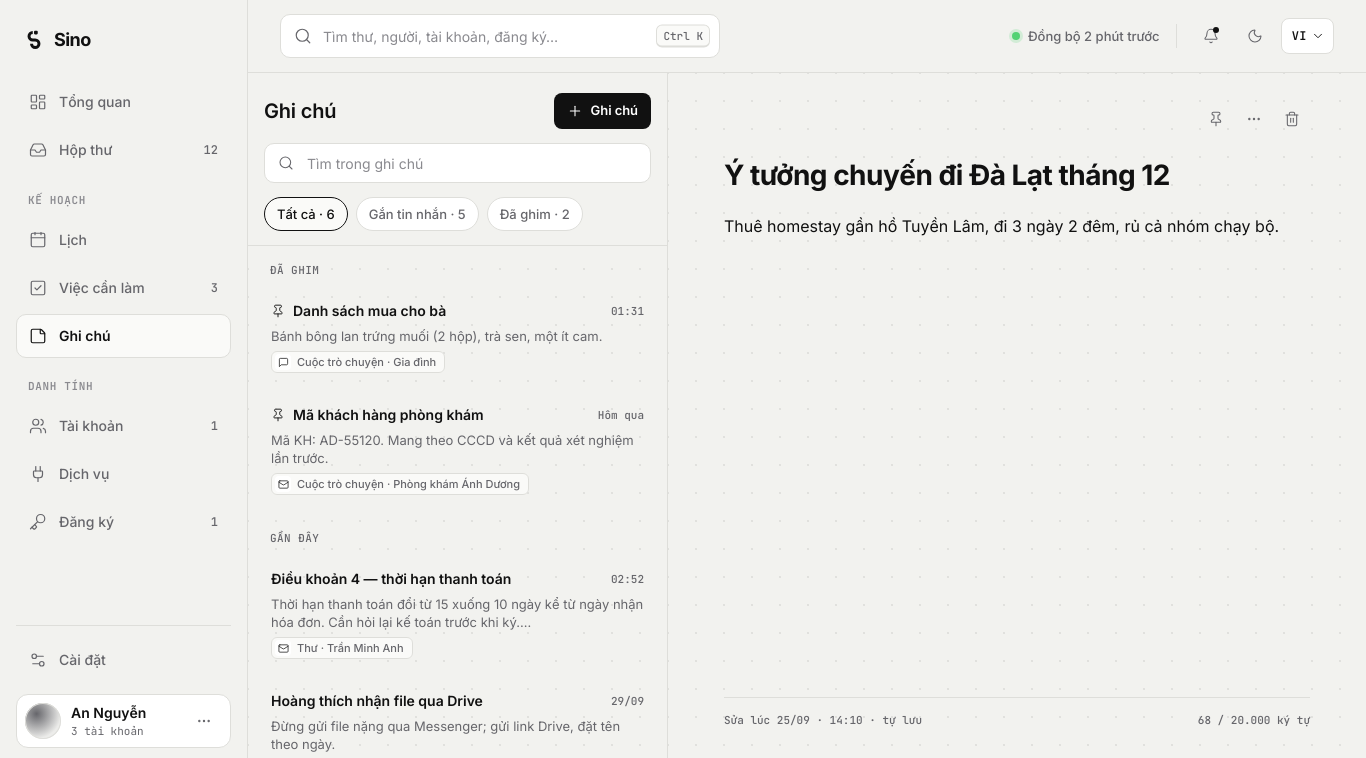
Scenario: Ghi chú on desktop (NT-02, fe-ui-notes) › pins and unpins, moving the card between the groups
Click the button named "Ghim" at point(1216, 119), box 1198,101 -> 1234,137
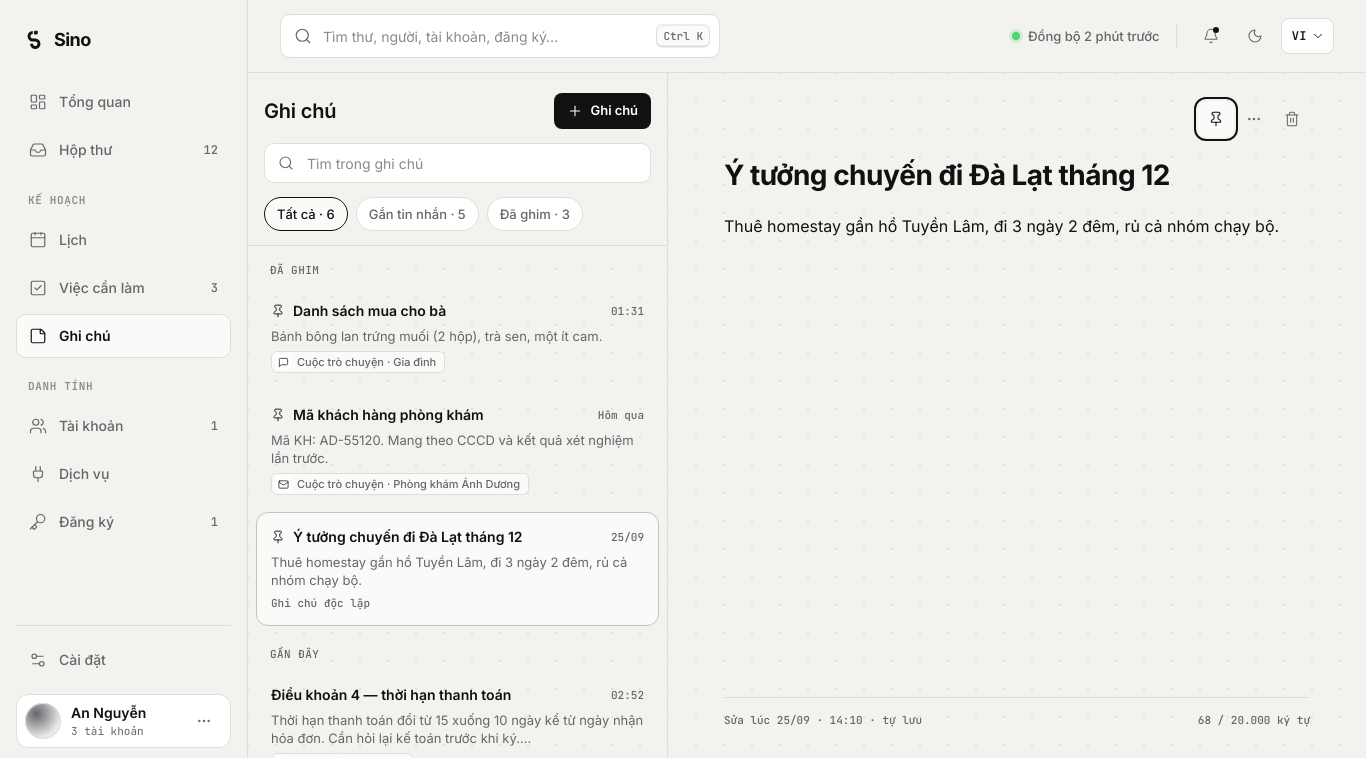
expect the button "Đã ghim · 3" is shown: met, box 487,197 -> 583,231
expect the text "Ý tưởng chuyến đi Đà Lạt tháng 12" is shown: met, box 293,527 -> 523,547
Click the button named "Ghim" at point(1216, 119), box 1198,101 -> 1234,137
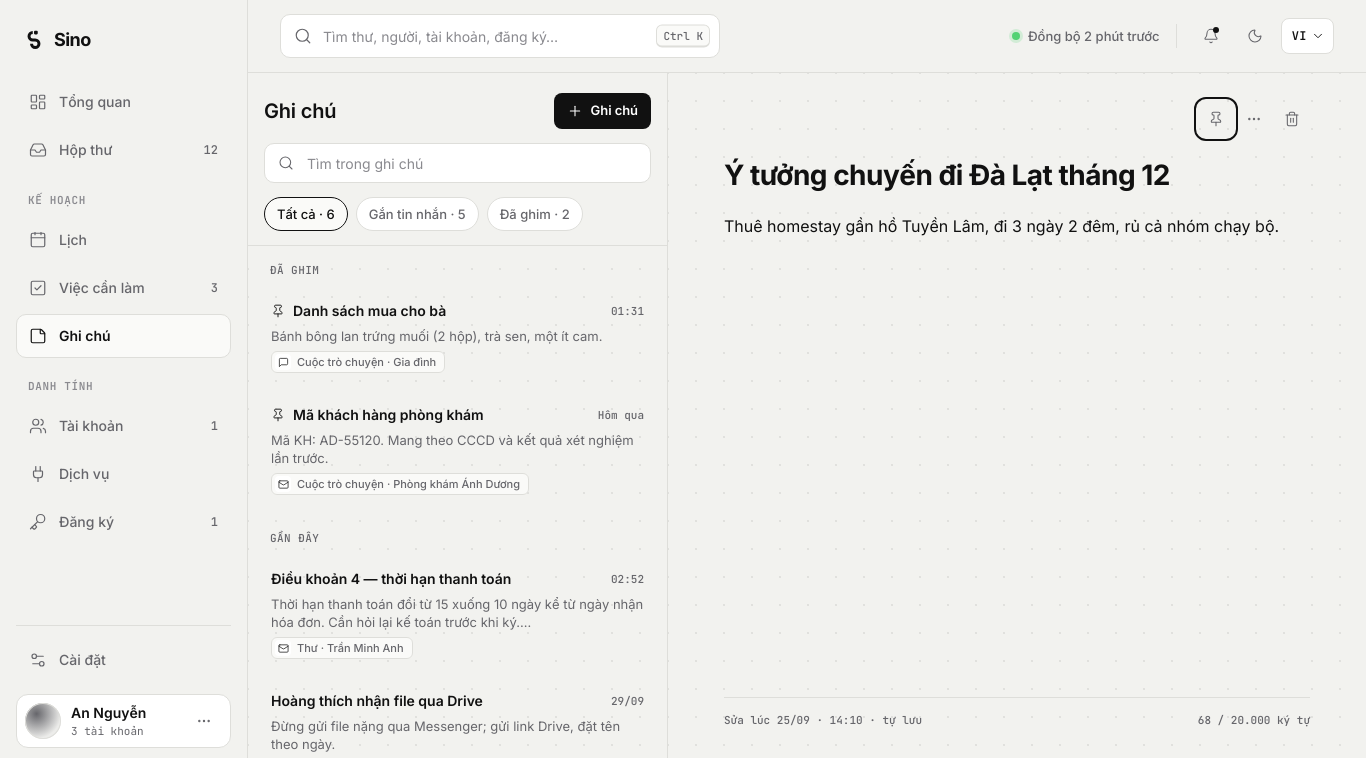
expect the button "Đã ghim · 2" is shown: met, box 487,197 -> 583,231
